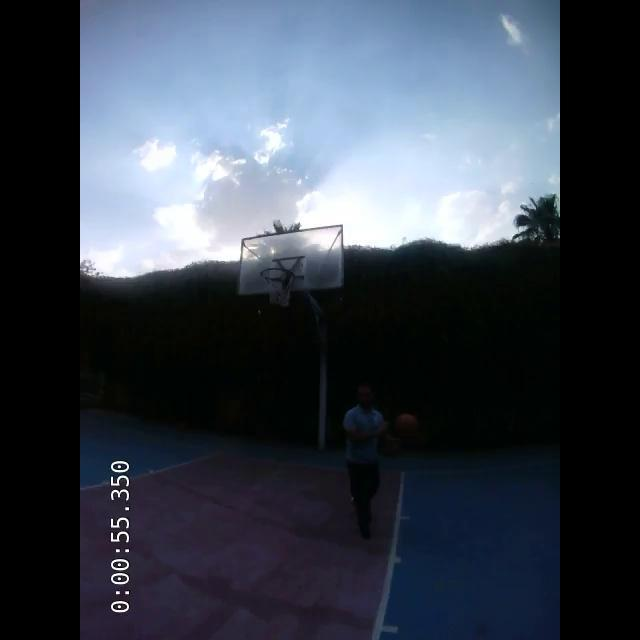ball: (394, 412, 419, 436)
